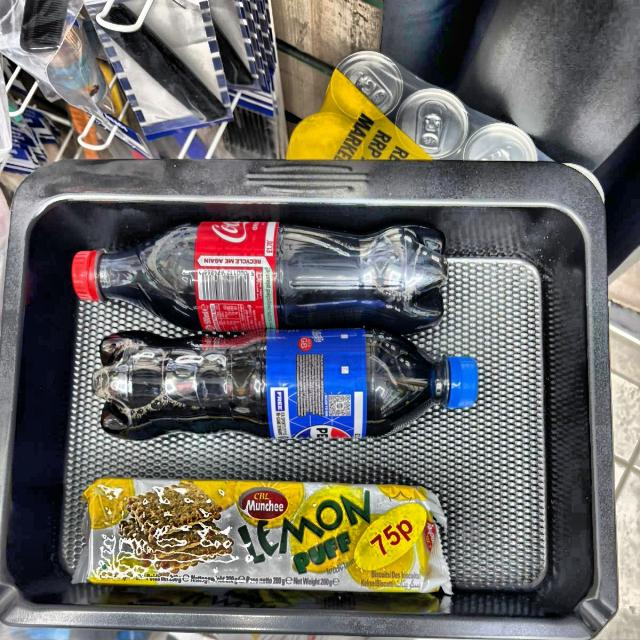coke-bottle: (59, 221, 448, 329)
lemon puff: (76, 469, 457, 600)
pepsi-bottle: (99, 328, 489, 446)
